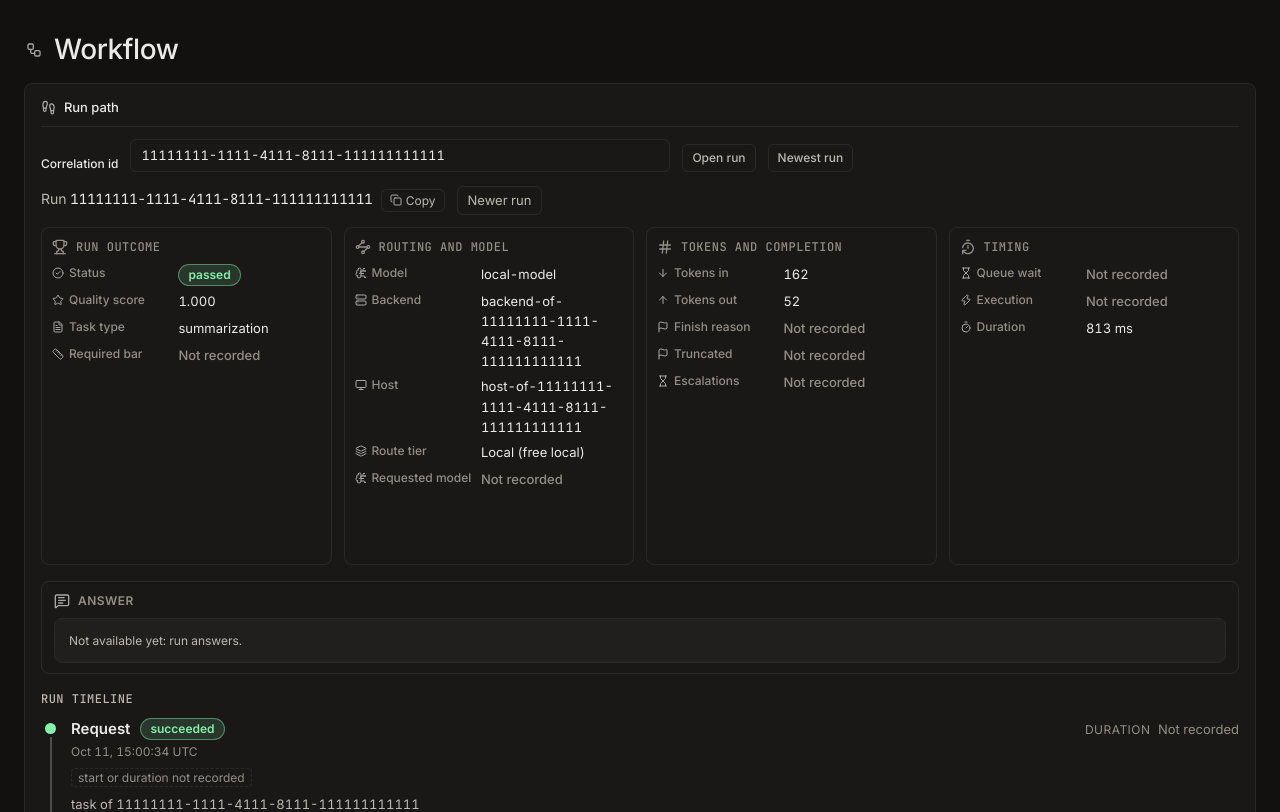
OMN-19987 / OMN-21015 AC9: the Workflow page shows one run, asked for by its correlation id › W13: Newest run clears a chosen id
Step 1. Click the button "Newest run" → (810, 158), box left=768, top=144, right=853, bottom=172
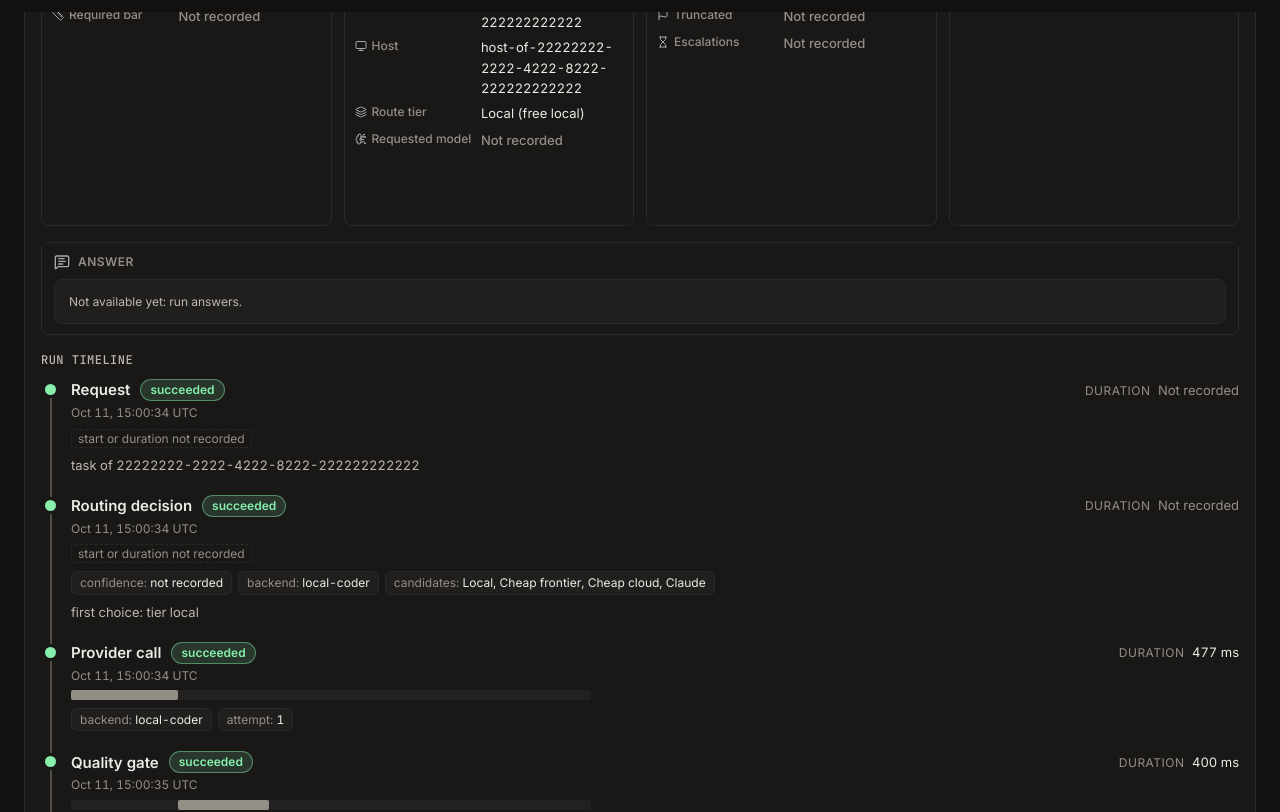
Now the button "Newest run" is gone
